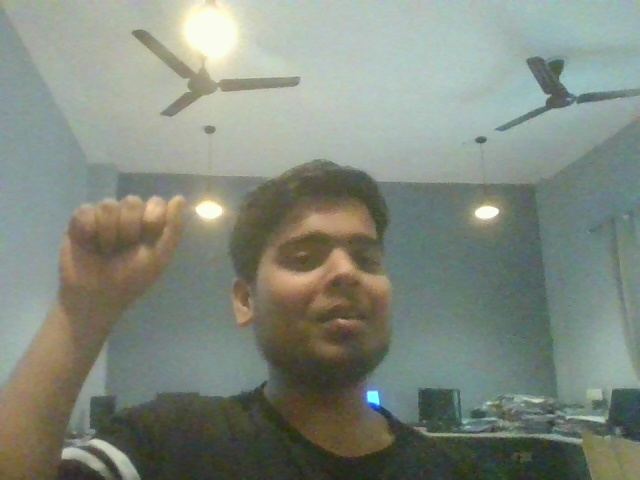A: (49, 173, 205, 334)
